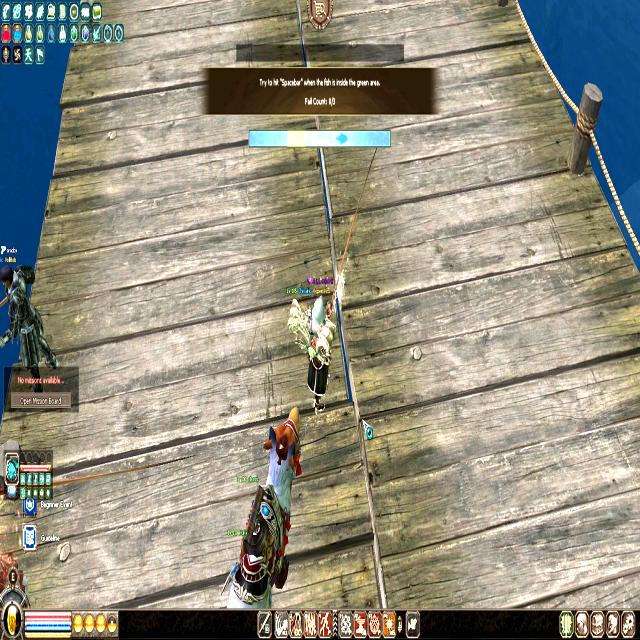fishes: (336, 132, 348, 146)
